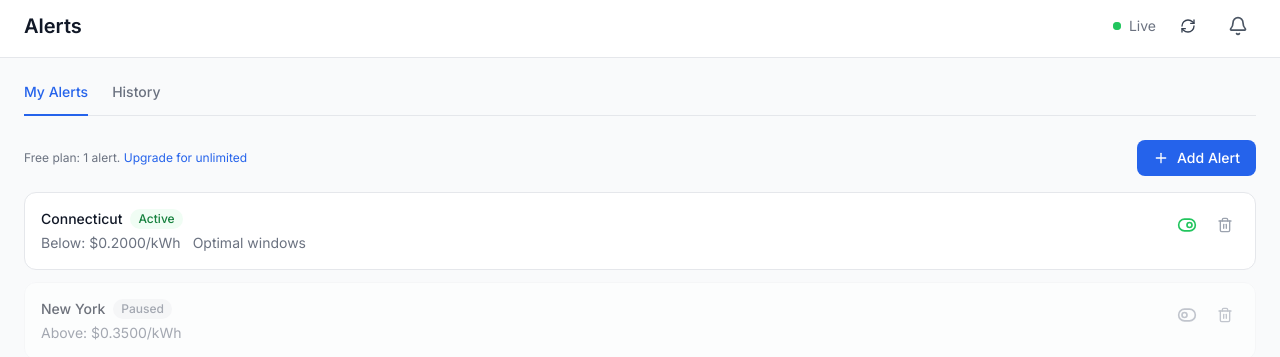
Test: AlertsContent › switches to History tab and shows history items
Click the button "History".
click(136, 99)  # box [112,82,160,116]
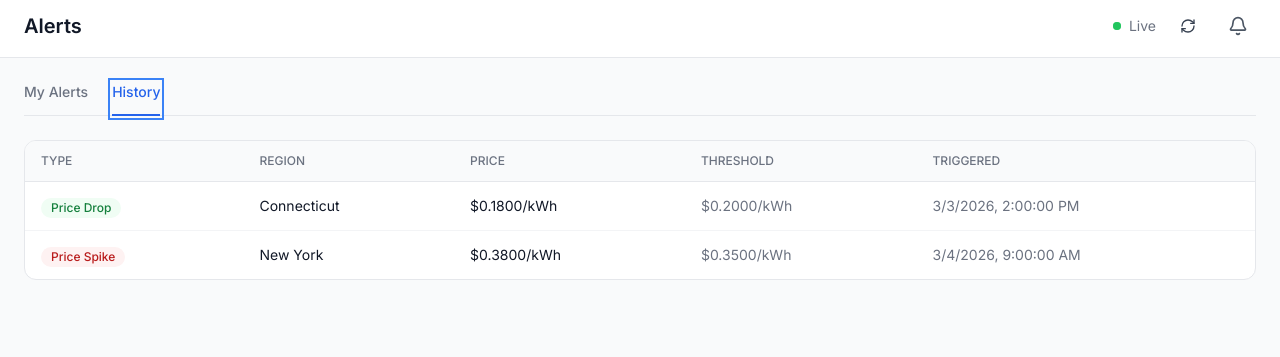
Expected: the number of rows with test id "history-row" is 2, [25,182,1255,230]; [25,230,1255,279]
